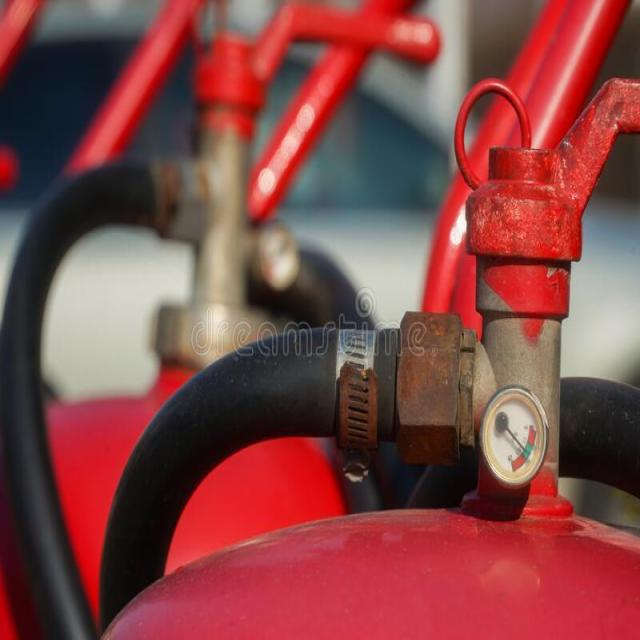fire_extinguisher: (82, 74, 640, 639), (0, 24, 381, 639)
